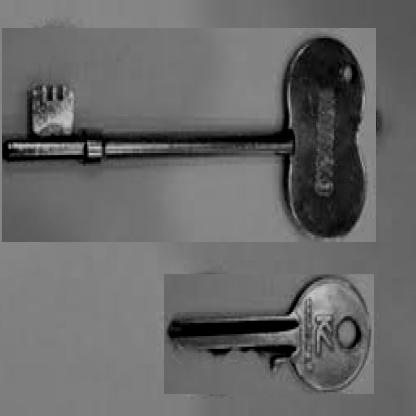key: (1, 28, 376, 242), (164, 274, 374, 394)
